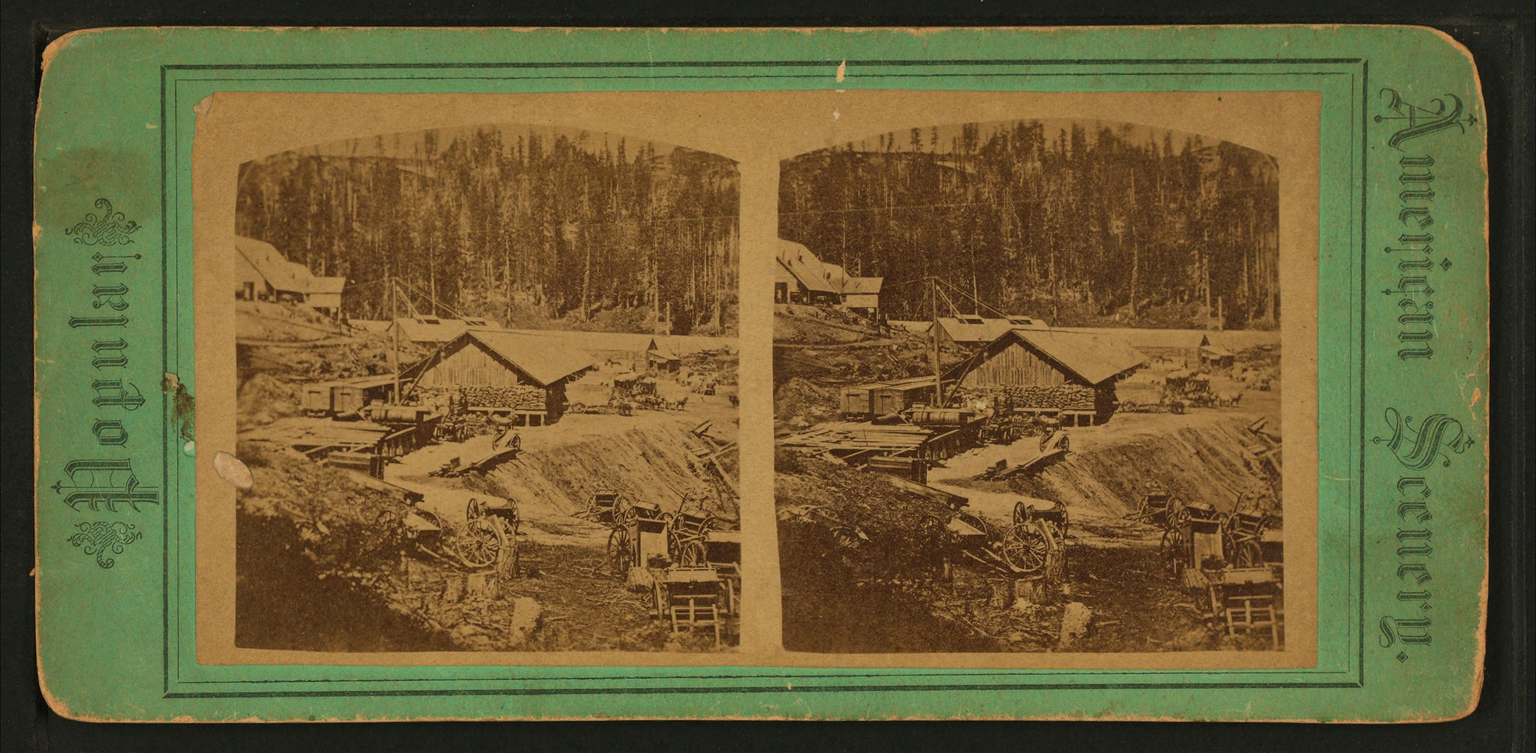half_image: (772, 118, 1284, 655), (235, 123, 743, 654)
